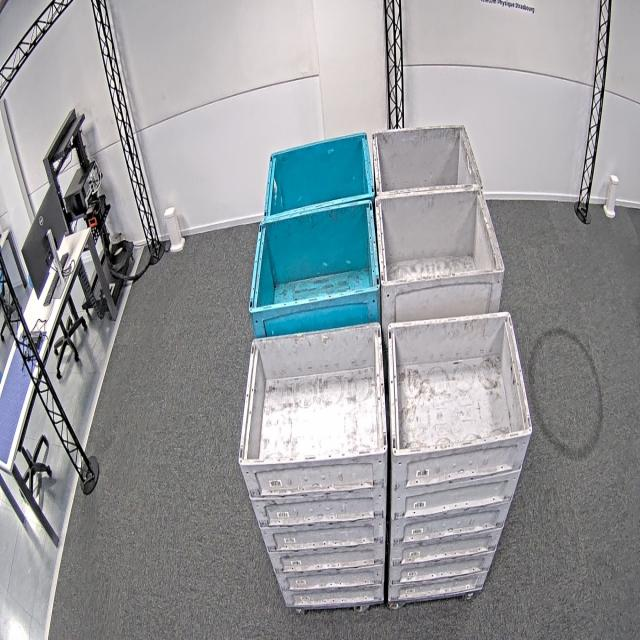Roll3G: (238, 318, 388, 466), (386, 310, 534, 459)
Roll4G: (375, 185, 506, 288), (372, 120, 484, 198)
RollB4: (248, 196, 380, 315), (263, 131, 376, 221)
